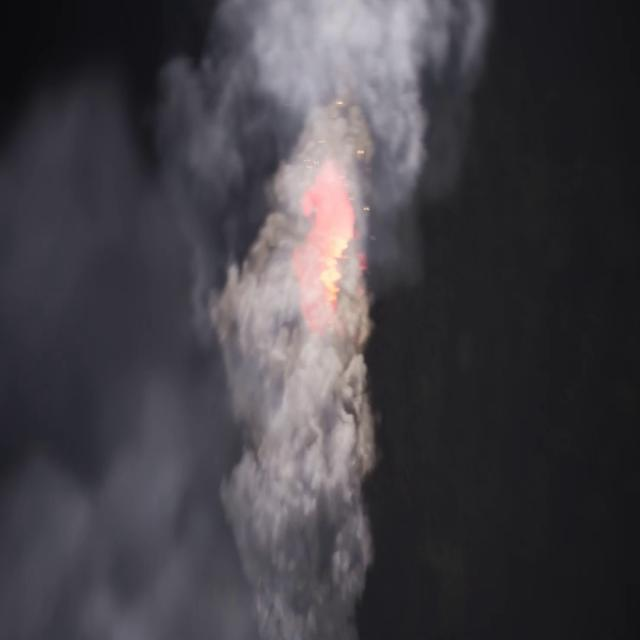fire: (298, 157, 367, 351)
smoke: (0, 0, 493, 639)
